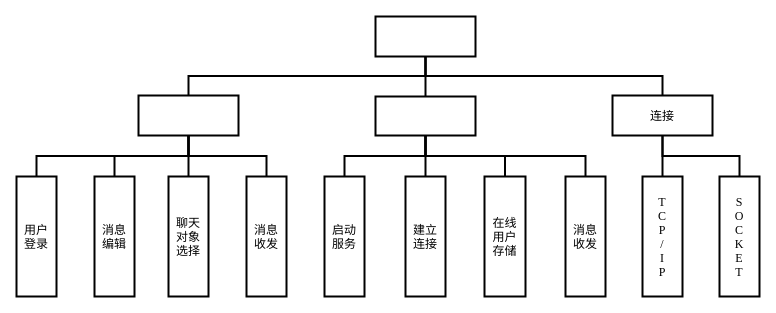
Image size: 776x313. Some labels were removed from this diagram. The centre of each missing label's shape, as x and y in pixels:
基于SOCKET的 局域网通信系统: point (425, 36)
客户机 Client: point (188, 115)
服务器 Server: point (425, 115)
